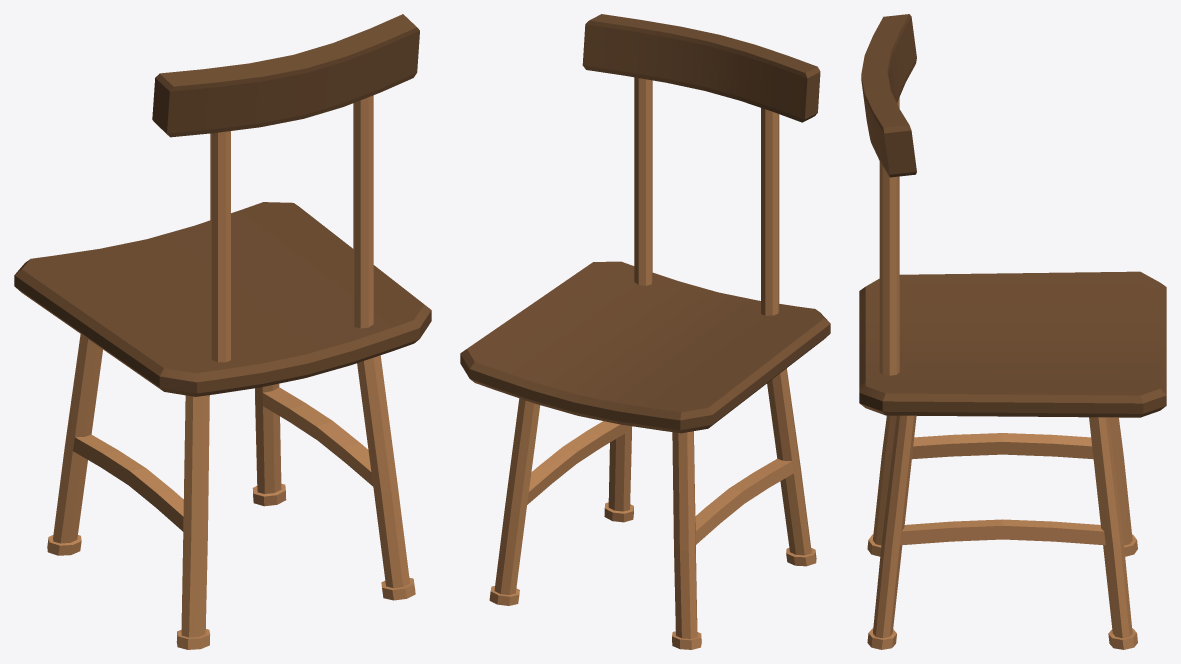
The model's file is MP_Chair (1).fbx.
3 views of the same model, side by side, from view 1: azimuth 30°, elevation 25°; view 2: azimuth 150°, elevation 25°; view 3: azimuth 270°, elevation 25° (orthographic). The views are drawn at different scales.
Visible parts, largest first — view 1: Chair_Seat, Chair, Chair_Back; view 2: Chair_Seat, Chair_Back, Chair; view 3: Chair_Seat, Chair, Chair_Back.
Boxes of the visible parts, <box> form: Chair_Seat: <box>14,202,431,396</box>; Chair: <box>47,334,415,649</box>; Chair_Back: <box>152,14,419,362</box>; Chair_Seat: <box>460,261,830,433</box>; Chair_Back: <box>582,14,820,315</box>; Chair: <box>489,368,816,649</box>; Chair_Seat: <box>859,271,1166,417</box>; Chair: <box>867,415,1137,649</box>; Chair_Back: <box>861,14,916,375</box>.
Bounding box in the file's own units: 34.91 × 66.36 × 35.07.
